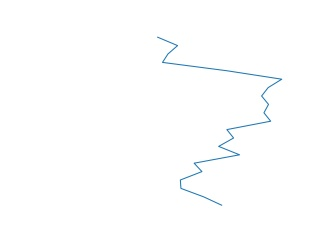floodPlain: (155, 34, 284, 209)
